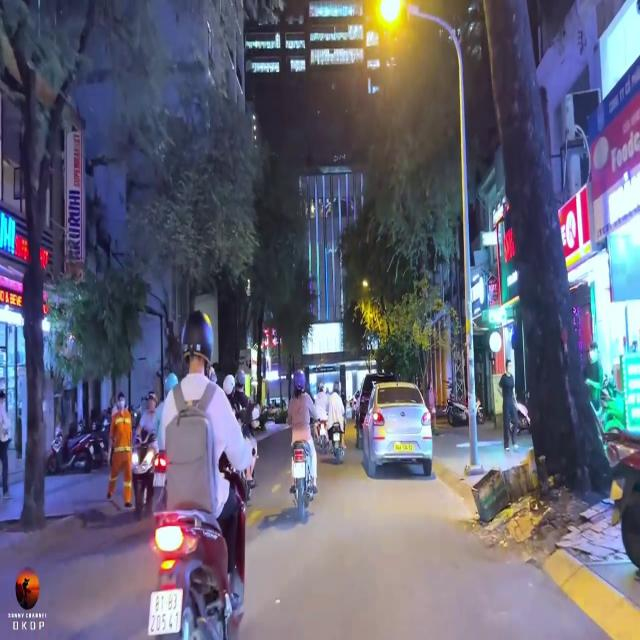bien_trang: (140, 584, 190, 640)
